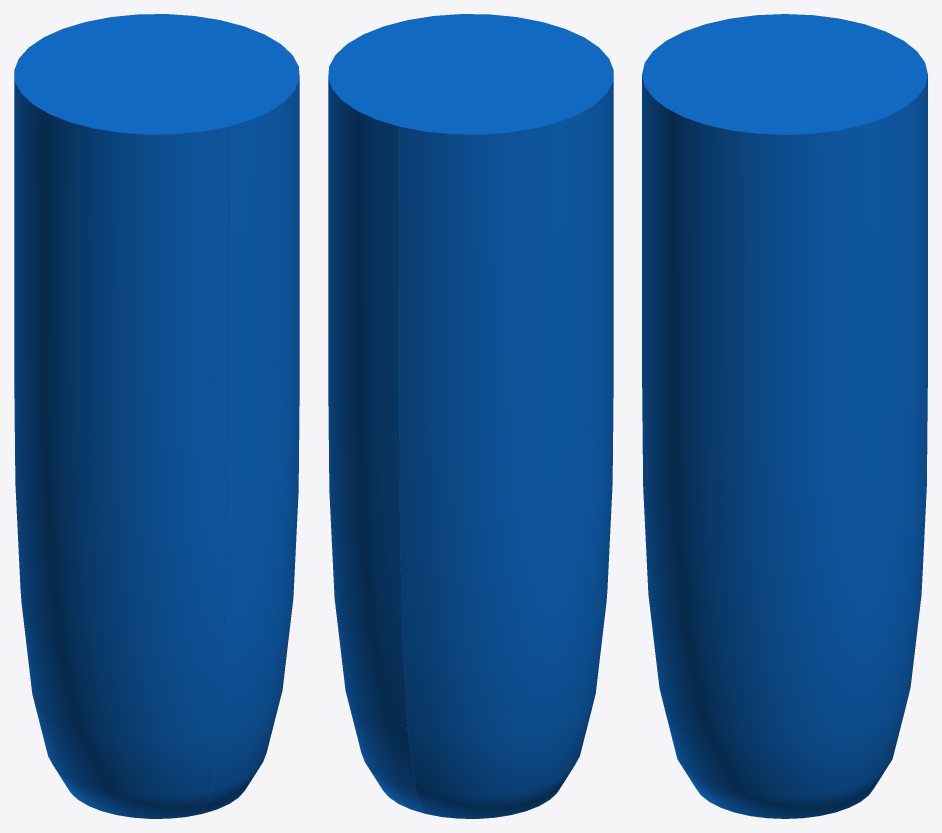
File: copper sulphate.gltf
3 views of the same model, side by side, from view 1: azimuth 30°, elevation 25°; view 2: azimuth 150°, elevation 25°; view 3: azimuth 270°, elevation 25° (orthographic).
Parts seen in each view (by area): view 1: Cylinder.001; view 2: Cylinder.001; view 3: Cylinder.001.
Part boxes in pixels (box(x1,y1,x2,y2)): Cylinder.001: box(14, 14, 299, 818); Cylinder.001: box(328, 14, 613, 818); Cylinder.001: box(642, 14, 927, 818).
Bounding box in the file's own units: 2.05 × 5.64 × 2.05.
